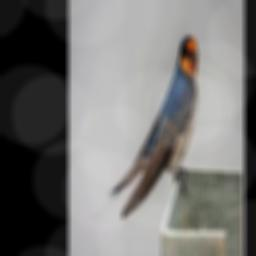Swallow: (107, 35, 197, 218)
